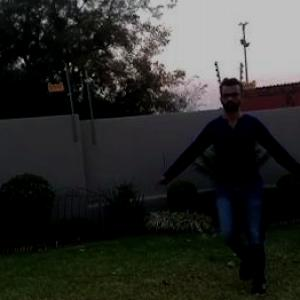land: (173, 91, 299, 270)
